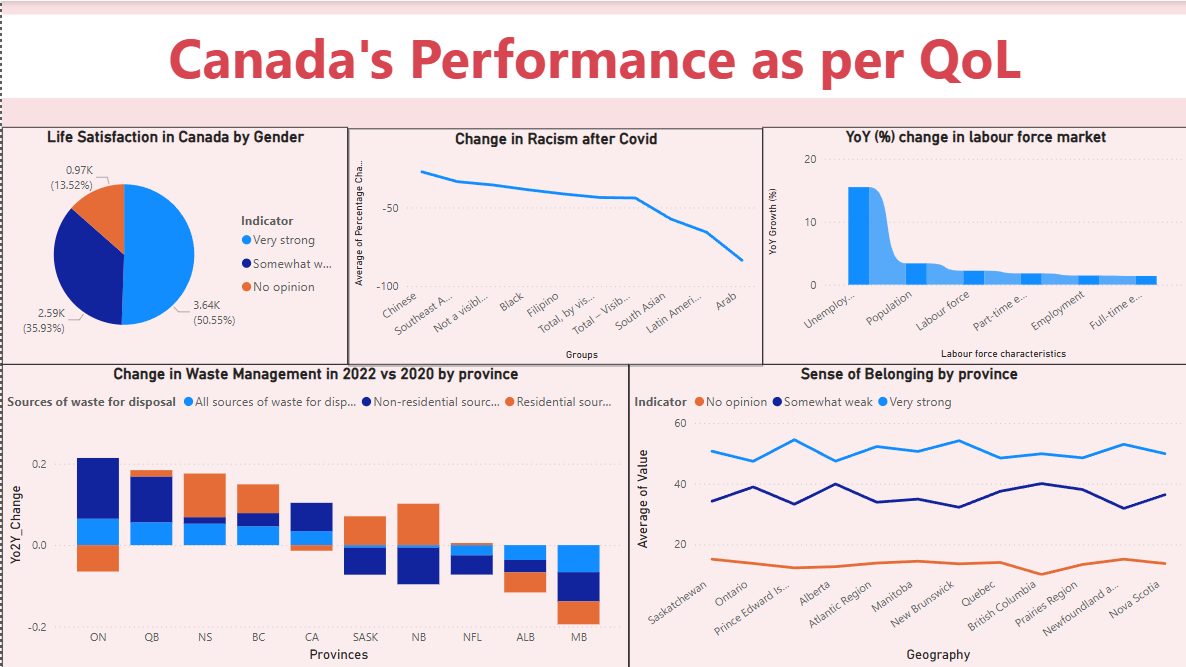

This screenshot's page, from the dashboard's own definition file:
{"tool":"powerbi","page":{"name":"Summary Dashboard","canvas":[1280,720],"ordinal":0},"visuals":[{"type":"lineChart","title":"Change in Racism after Covid","fields":{"Category":["immigration - discrimination.Groups"],"Y":["Avg(immigration - discrimination.Percentage Change(Race_Color))"]},"box":[373.2,137.2,447.3,256.6],"z":0},{"type":"ribbonChart","title":"YoY (%) change in labour force market","fields":{"Category":["employment.Labour force characteristics"],"Y":["employment.YoY Growth (%)"]},"box":[820.6,135.8,459.7,256.6],"z":1000},{"type":"pieChart","title":"Life Satisfaction in Canada by Gender","fields":{"Category":["Sense_of_Belonging_Data.Indicator"],"Y":["Sum(Sense_of_Belonging_Data.Value)"]},"box":[0,135.8,373.2,256.6],"z":2000},{"type":"columnChart","title":"Change in Waste Management in 2022 vs 2020 by province","fields":{"Category":["disposal_of_waste.Province"],"Y":["disposal_of_waste.Yo2Y_Change"],"Series":["disposal_of_waste.Sources of waste for disposal"]},"box":[0,392.5,676.5,328],"z":3000},{"type":"lineChart","title":"Sense of Belonging by province","fields":{"Category":["Sense_of_Belonging_Data.Geography"],"Y":["Avg(Sense_of_Belonging_Data.Value)"],"Series":["Sense_of_Belonging_Data.Indicator"]},"box":[676.5,392.5,603.8,328],"z":4000},{"type":"textbox","box":[0,14,1280,90],"z":5000}]}

Visuals, with their boxes in screenshot pixels (x1, y1, x2, y2), scaled from the page's 1280x720 canvas onto the 1186x667 screenshot:
"Change in Racism after Covid" lineChart: l=346, t=127, r=760, b=365
"YoY (%) change in labour force market" ribbonChart: l=760, t=126, r=1185, b=364
"Life Satisfaction in Canada by Gender" pieChart: l=0, t=126, r=346, b=364
"Change in Waste Management in 2022 vs 2020 by province" columnChart: l=0, t=364, r=627, b=666
"Sense of Belonging by province" lineChart: l=627, t=364, r=1185, b=666
textbox: l=0, t=13, r=1185, b=96
